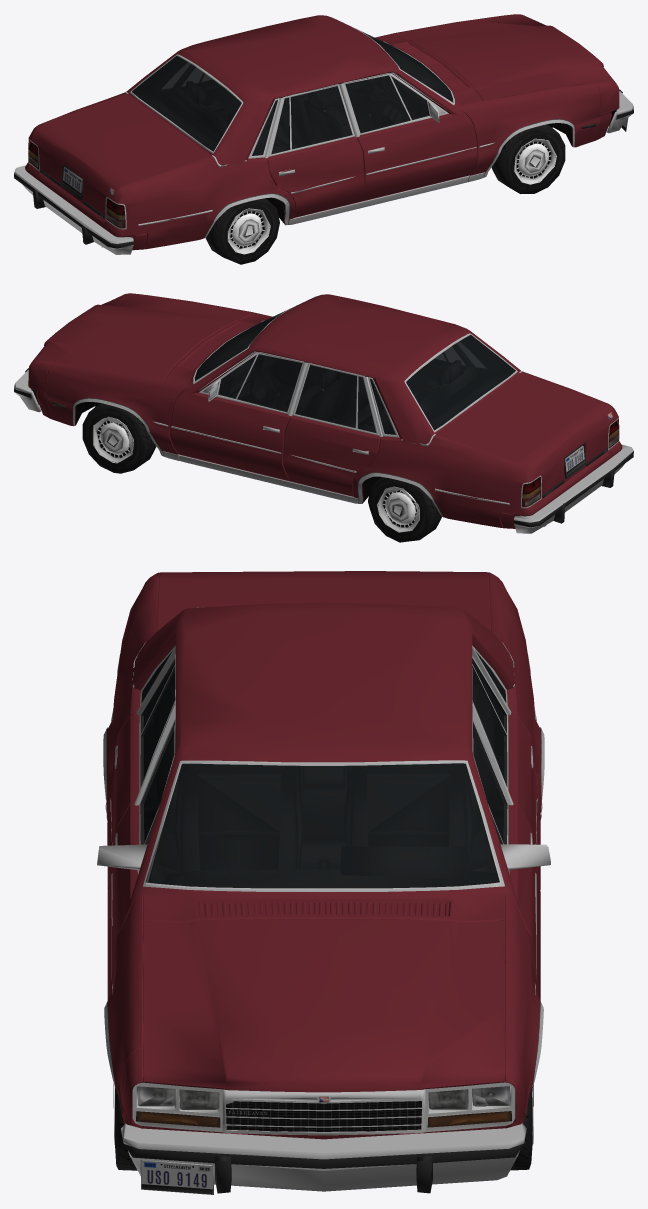
The model's file is car_lt80.glb.
3 renders of one model, top to bottom at view 1: azimuth 30°, elevation 25°; view 2: azimuth 150°, elevation 25°; view 3: azimuth 270°, elevation 25°, orthographic. The views are drawn at different scales.
Parts seen in each view (by area): view 1: Fairheaven_LT80_Hood_Fairheaven_LT80_Bodymat_0, Fairheaven_LT80_Taillights_Glass_UCB_Lights_and_Glass_Transp, Fairheaven_LT80_Interior_Trim_UCB_Interior_Trim_0, Fairheaven_LT80_bumper_rear_UCB_BOTTOM_GT_0, Fairheaven_LT80_WheelHubcaps_FL_RB1c_Tire_1k_0, Fairheaven_LT80_Headlights_UCB_Lights_and_Glass_0, Fairheaven_LT80_Numberplate_Rear_Numberplates_Misk_U_0; view 2: Fairheaven_LT80_Hood_Fairheaven_LT80_Bodymat_0, Fairheaven_LT80_Taillights_Glass_UCB_Lights_and_Glass_Transp, Fairheaven_LT80_Interior_Trim_UCB_Interior_Trim_0, Fairheaven_LT80_bumper_rear_UCB_BOTTOM_GT_0, Fairheaven_LT80_WheelHubcaps_FL_RB1c_Tire_1k_0, Fairheaven_LT80_Headlights_UCB_Lights_and_Glass_0; view 3: Fairheaven_LT80_Hood_Fairheaven_LT80_Bodymat_0, Fairheaven_LT80_Taillights_Glass_UCB_Lights_and_Glass_Transp, Fairheaven_LT80_bumper_rear_UCB_BOTTOM_GT_0, Fairheaven_LT80_Interior_Trim_UCB_Interior_Trim_0, Fairheaven_LT80_Headlights_UCB_Lights_and_Glass_0, Fairheaven_LT80_Numberplate_Rear_Numberplates_Misk_U_0, Fairheaven_LT80_WheelHubcaps_FL_RB1c_Tire_1k_0.
Part boxes in pixels (x1=…): Fairheaven_LT80_Hood_Fairheaven_LT80_Bodymat_0: x1=25, y1=14, x2=619, y2=250; Fairheaven_LT80_Taillights_Glass_UCB_Lights_and_Glass_Transp: x1=28, y1=28, x2=453, y2=226; Fairheaven_LT80_Interior_Trim_UCB_Interior_Trim_0: x1=132, y1=39, x2=452, y2=155; Fairheaven_LT80_bumper_rear_UCB_BOTTOM_GT_0: x1=14, y1=17, x2=633, y2=254; Fairheaven_LT80_WheelHubcaps_FL_RB1c_Tire_1k_0: x1=205, y1=124, x2=565, y2=264; Fairheaven_LT80_Headlights_UCB_Lights_and_Glass_0: x1=28, y1=142, x2=125, y2=228; Fairheaven_LT80_Numberplate_Rear_Numberplates_Misk_U_0: x1=62, y1=117, x2=628, y2=196; Fairheaven_LT80_Hood_Fairheaven_LT80_Bodymat_0: x1=28, y1=293, x2=622, y2=528; Fairheaven_LT80_Taillights_Glass_UCB_Lights_and_Glass_Transp: x1=194, y1=307, x2=619, y2=505; Fairheaven_LT80_Interior_Trim_UCB_Interior_Trim_0: x1=195, y1=318, x2=515, y2=434; Fairheaven_LT80_bumper_rear_UCB_BOTTOM_GT_0: x1=14, y1=296, x2=633, y2=533; Fairheaven_LT80_WheelHubcaps_FL_RB1c_Tire_1k_0: x1=82, y1=403, x2=441, y2=542; Fairheaven_LT80_Headlights_UCB_Lights_and_Glass_0: x1=522, y1=421, x2=619, y2=507; Fairheaven_LT80_Hood_Fairheaven_LT80_Bodymat_0: x1=106, y1=571, x2=541, y2=1139; Fairheaven_LT80_Taillights_Glass_UCB_Lights_and_Glass_Transp: x1=136, y1=650, x2=511, y2=1127; Fairheaven_LT80_bumper_rear_UCB_BOTTOM_GT_0: x1=97, y1=607, x2=550, y2=1193; Fairheaven_LT80_Interior_Trim_UCB_Interior_Trim_0: x1=142, y1=652, x2=505, y2=887; Fairheaven_LT80_Headlights_UCB_Lights_and_Glass_0: x1=137, y1=1086, x2=510, y2=1109; Fairheaven_LT80_Numberplate_Rear_Numberplates_Misk_U_0: x1=140, y1=1160, x2=213, y2=1194; Fairheaven_LT80_WheelHubcaps_FL_RB1c_Tire_1k_0: x1=113, y1=1083, x2=533, y2=1170.
Size of the model in its own units: 4.99 by 1.35 by 1.82.
8 materials, 7 textured.
